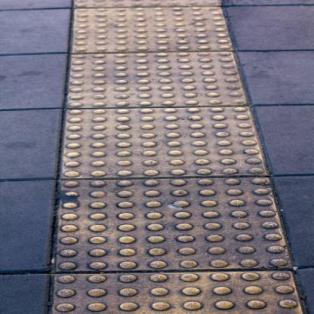Podoctatil: (50, 1, 303, 313)
